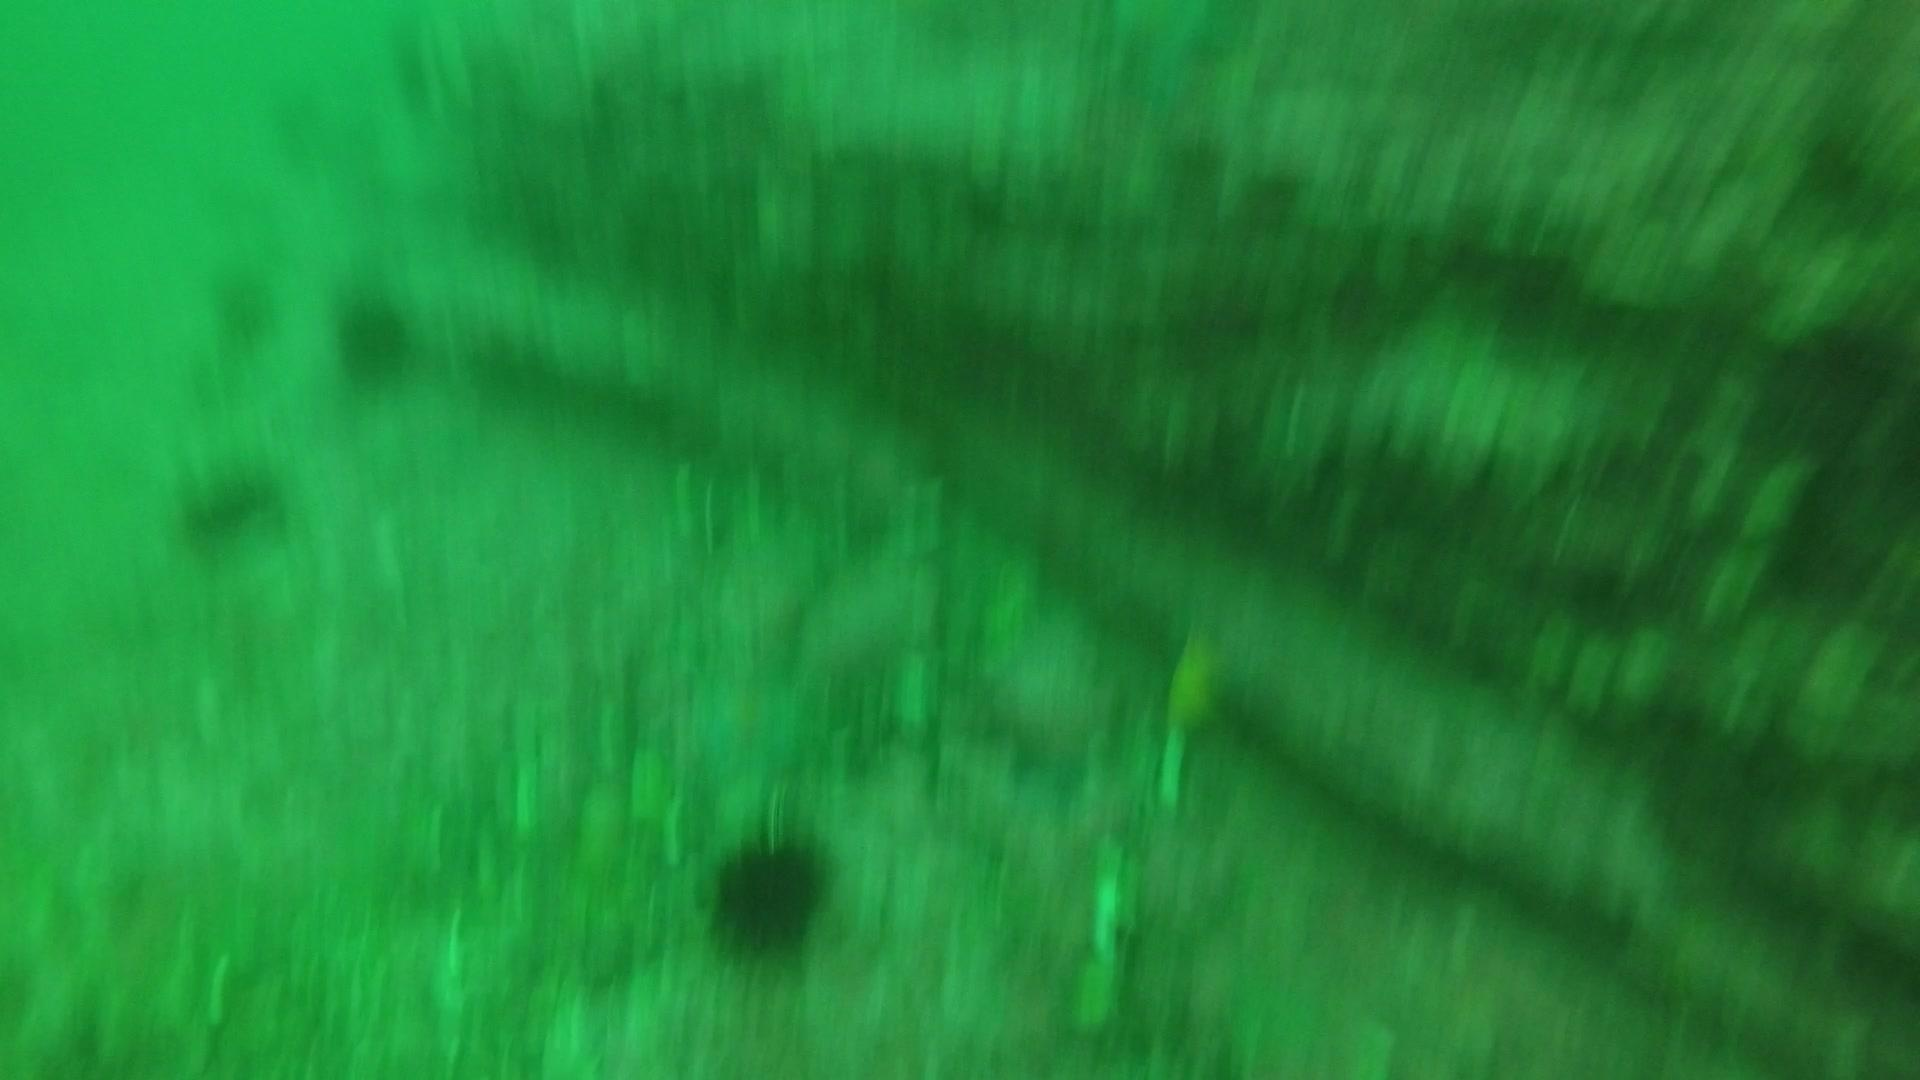echinus: (699, 816, 840, 960), (169, 454, 290, 556), (327, 287, 421, 392), (202, 258, 284, 352)
starfish: (676, 653, 822, 794)
